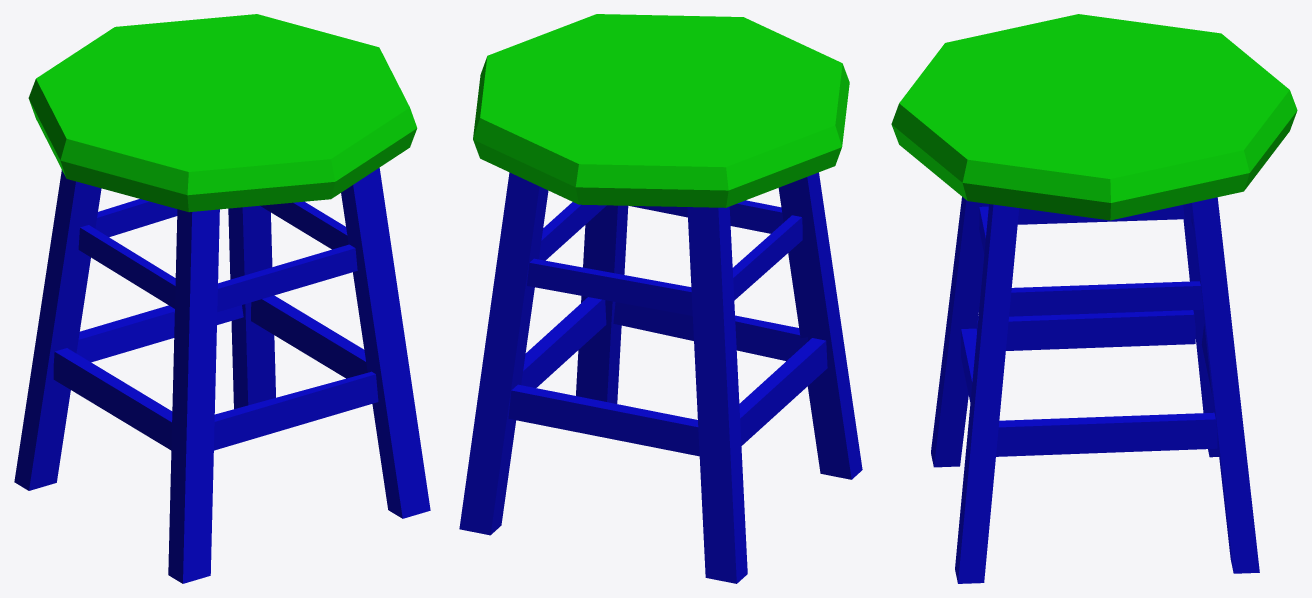
File: taburete.fbx
The picture shows the model from 3 angles, left to right: view 1: azimuth 30°, elevation 25°; view 2: azimuth 150°, elevation 25°; view 3: azimuth 270°, elevation 25°; orthographic projection. The views are drawn at different scales.
Parts seen in each view (by area): view 1: Taburete1.003; view 2: Taburete1.003; view 3: Taburete1.003.
Part boxes in pixels (x1,y1,x2,y2): Taburete1.003: (14, 14, 430, 583); Taburete1.003: (459, 14, 862, 583); Taburete1.003: (891, 14, 1297, 583).
Size of the model in its own units: 1.42 by 1.61 by 1.42.
